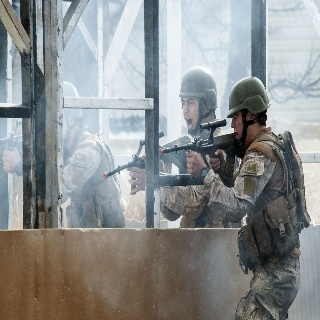rifle: (103, 129, 195, 198), (158, 118, 246, 181)
